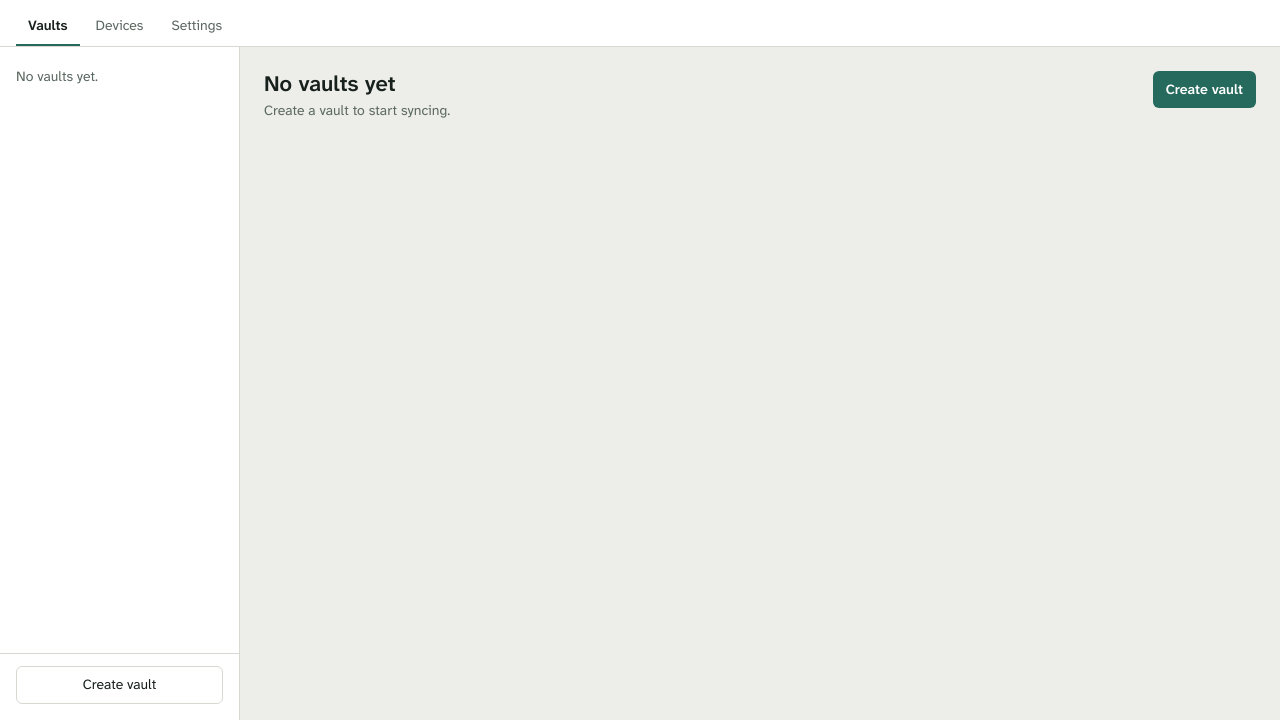
Test: the tabs (spec §15) › renames a device in place
Click the tab "Devices" at (120, 27), box 84,8 -> 156,46
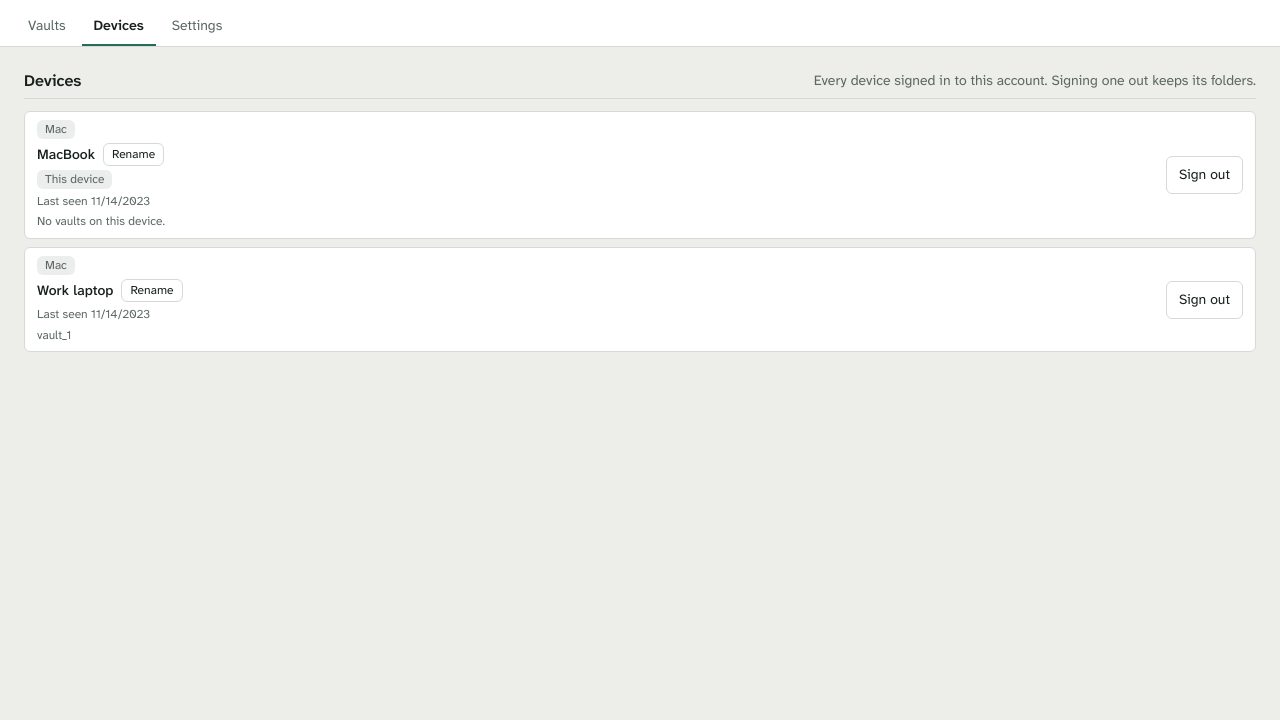
Click the button with test id "deviceRenameButton" next to "Work laptop" at (152, 290), box 121,279 -> 183,302
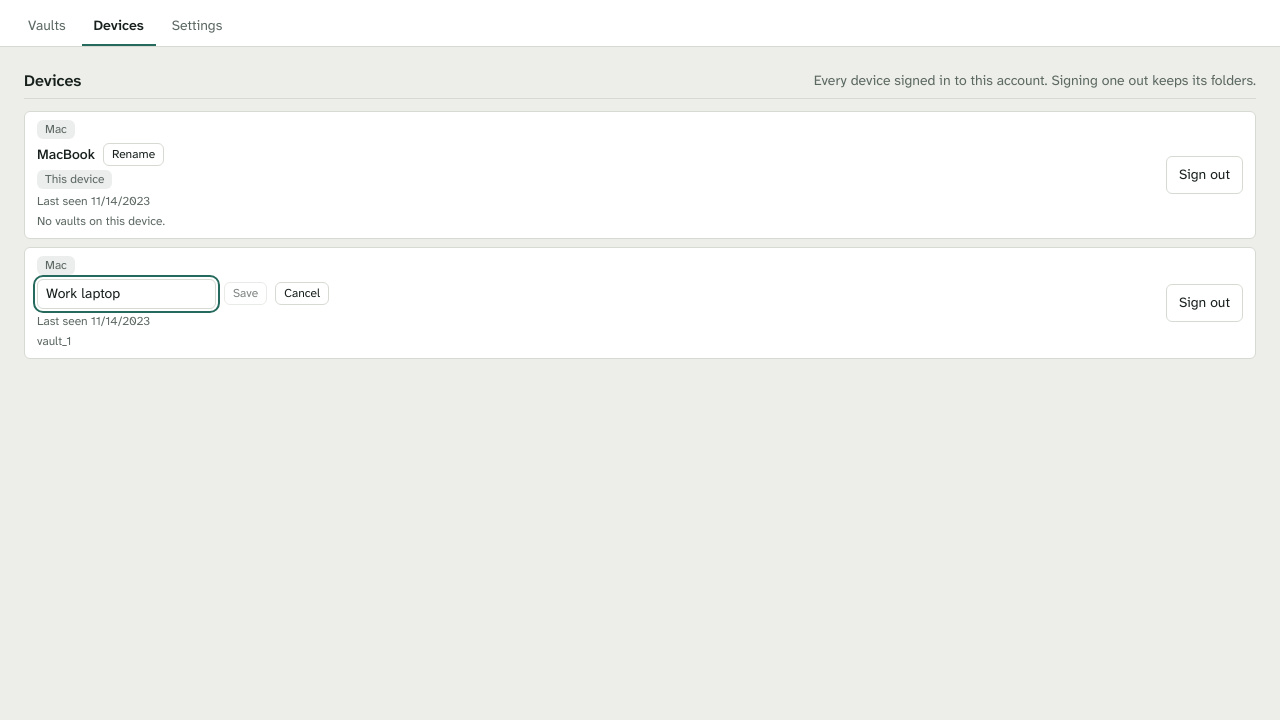
Replace the text in the field with test id "deviceRenameField" with "Office Mac" at (126, 294), box 37,279 -> 216,309
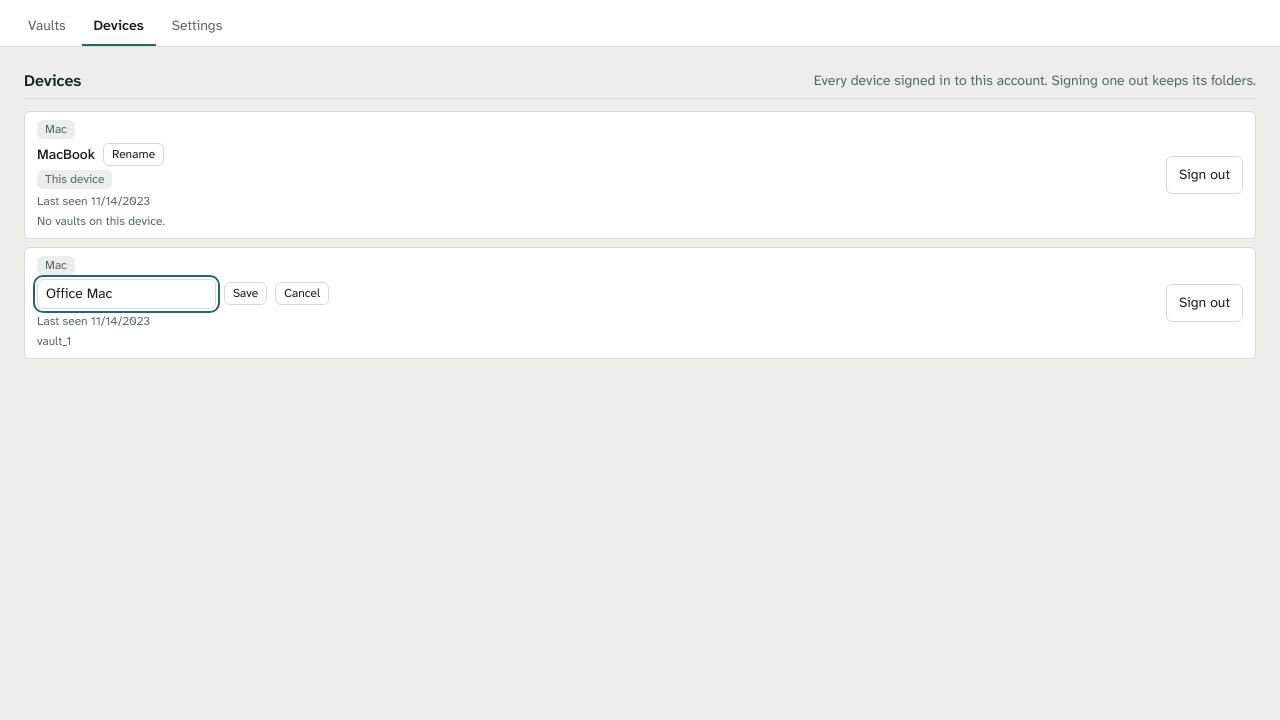
Click the button with test id "deviceRenameButton" showing "Save" at (246, 294), box 224,282 -> 267,305
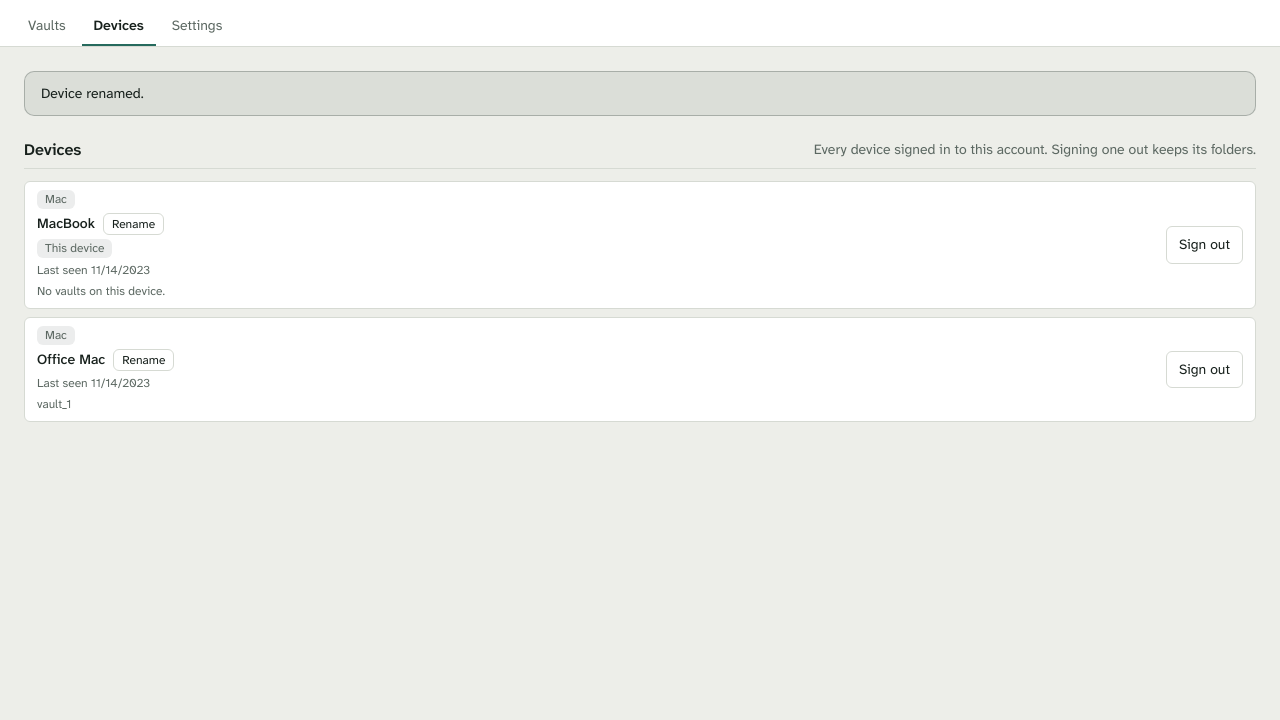
Now the text "Device renamed." is shown, box 24,71 -> 1256,116
Now the text "Office Mac" is shown, box 37,350 -> 105,370
